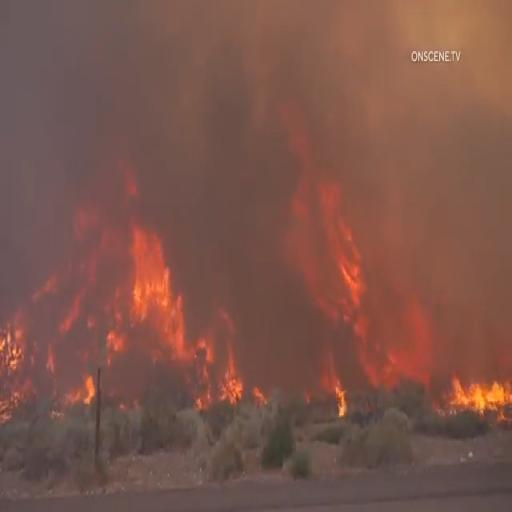fire: (82, 184, 216, 367), (0, 284, 78, 413), (206, 323, 287, 408), (454, 337, 512, 418), (332, 370, 352, 430)
smoke: (2, 3, 279, 168), (398, 82, 508, 219), (218, 192, 297, 315), (352, 22, 402, 170)
